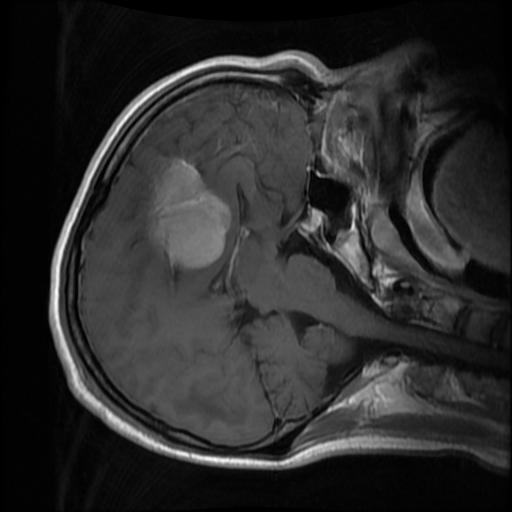meningioma: (146, 158, 232, 269)
